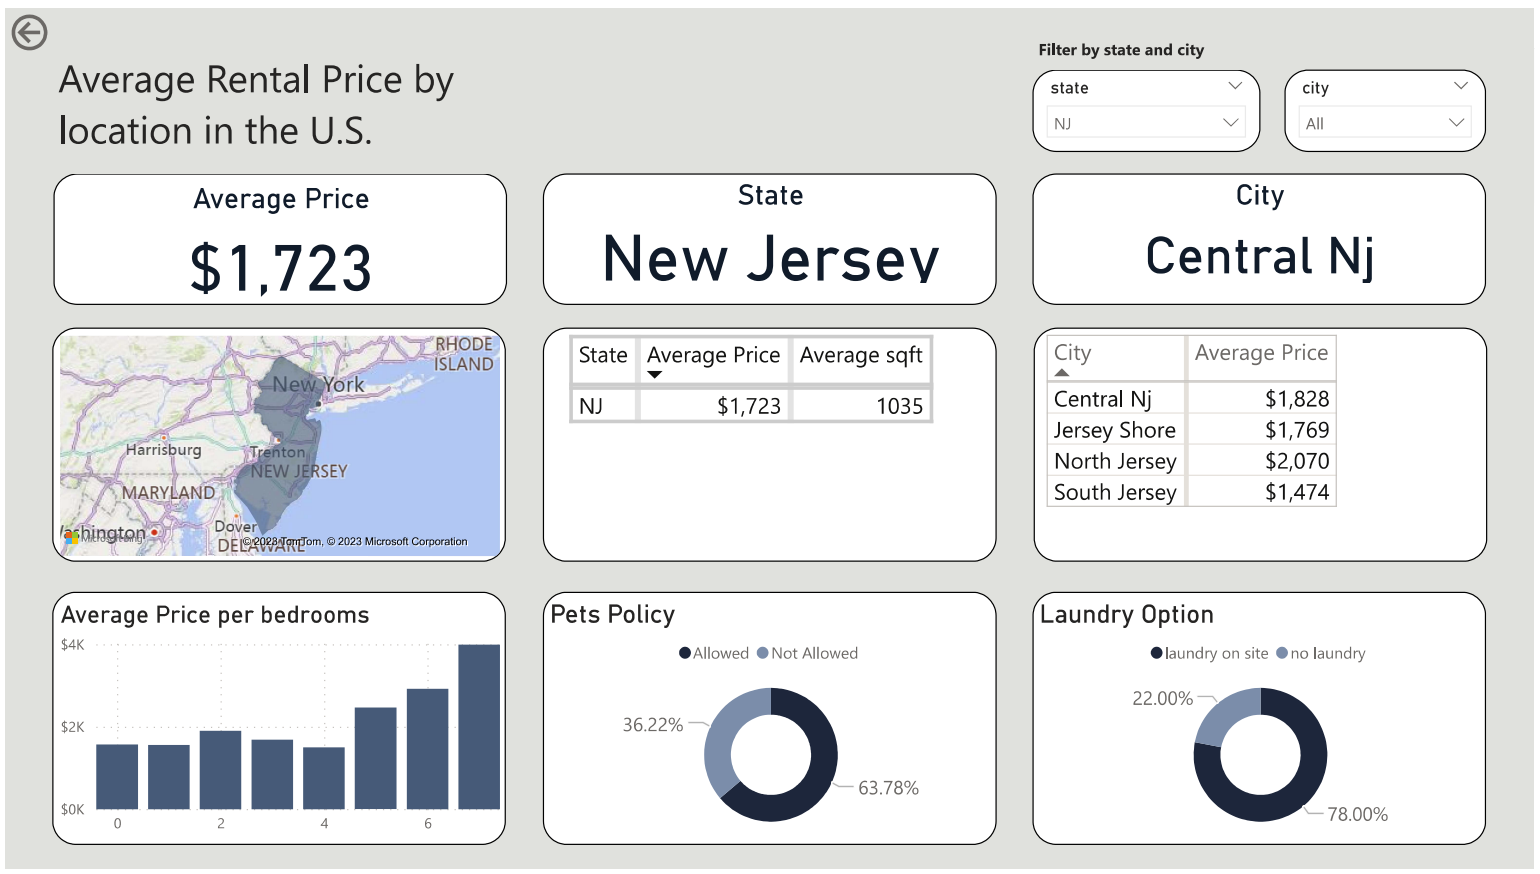

What the dashboard file says about the page in this screenshot:
{"tool":"powerbi","page":{"name":"Page 1","canvas":[1280,720],"ordinal":0},"visuals":[{"type":"filledMap","fields":{"Category":["housing.state"]},"box":[39.4,266.5,380.1,196.8],"z":0},{"type":"donutChart","title":"Pets Policy","fields":{"Category":["housing.pets_allowed"],"Y":["CountNonNull(housing.pets_allowed)"]},"box":[449.7,487.6,380.1,212],"z":1000},{"type":"actionButton","box":[0,0,100,40],"z":2000},{"type":"donutChart","title":"Laundry Option","fields":{"Y":["CountNonNull(housing.laundry_options)"],"Category":["housing.laundry_options"]},"box":[860,488,380,212],"z":3000},{"type":"lineClusteredColumnComboChart","title":"Average Price per bedrooms","fields":{"Category":["housing.beds"],"Y":["Avg(housing.price)"]},"box":[39.4,487.6,380.1,212],"z":4000},{"type":"card","title":"State","fields":{"Values":["Min(States of the United States of America.full name)"]},"box":[449.7,137.8,380.1,110.5],"z":5000},{"type":"card","title":"Average Price","fields":{"Values":["Avg(housing.price)"]},"box":[40,137.8,380.1,110.5],"z":6000},{"type":"tableEx","fields":{"Values":["housing.region","Avg(housing.price)"]},"box":[861,266.5,380.1,196.8],"z":7000},{"type":"card","title":"City","fields":{"Values":["Min(housing.region)"]},"box":[860,137.8,380.1,110.5],"z":8000},{"type":"tableEx","fields":{"Values":["housing.state","Avg(housing.price)","Avg(housing.sqfeet)"]},"box":[449.7,266.5,380.1,196.8],"z":9000},{"type":"textbox","box":[39.4,30.3,380.1,107.5],"z":10000},{"type":"slicer","fields":{"Values":["housing.state"]},"box":[860.5,51.3,190.5,68.9],"z":11000},{"type":"slicer","fields":{"Values":["housing.region"]},"box":[1071.2,51.3,168.9,68.9],"z":12000},{"type":"textbox","box":[860.5,20.3,189.1,31.1],"z":13000}]}

Visuals, with their boxes in screenshot pixels (x1, y1, x2, y2), scaled from the page's 1280x720 canvas onto the 1540x874 screenshot:
filledMap - housing.state: {"x1": 47, "y1": 324, "x2": 505, "y2": 562}
"Pets Policy" donutChart: {"x1": 541, "y1": 592, "x2": 998, "y2": 849}
actionButton: {"x1": 0, "y1": 0, "x2": 120, "y2": 49}
"Laundry Option" donutChart: {"x1": 1035, "y1": 592, "x2": 1492, "y2": 850}
"Average Price per bedrooms" lineClusteredColumnComboChart: {"x1": 47, "y1": 592, "x2": 505, "y2": 849}
"State" card: {"x1": 541, "y1": 167, "x2": 998, "y2": 301}
"Average Price" card: {"x1": 48, "y1": 167, "x2": 505, "y2": 301}
tableEx - housing.region x Avg(housing.price): {"x1": 1036, "y1": 324, "x2": 1493, "y2": 562}
"City" card: {"x1": 1035, "y1": 167, "x2": 1492, "y2": 301}
tableEx - housing.state x Avg(housing.price): {"x1": 541, "y1": 324, "x2": 998, "y2": 562}
textbox: {"x1": 47, "y1": 37, "x2": 505, "y2": 167}
slicer - housing.state: {"x1": 1035, "y1": 62, "x2": 1264, "y2": 146}
slicer - housing.region: {"x1": 1289, "y1": 62, "x2": 1492, "y2": 146}
textbox: {"x1": 1035, "y1": 25, "x2": 1263, "y2": 62}
